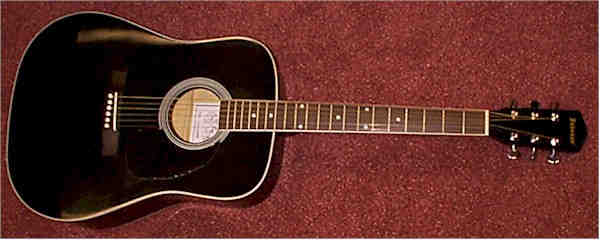guitar: (3, 15, 585, 231)
